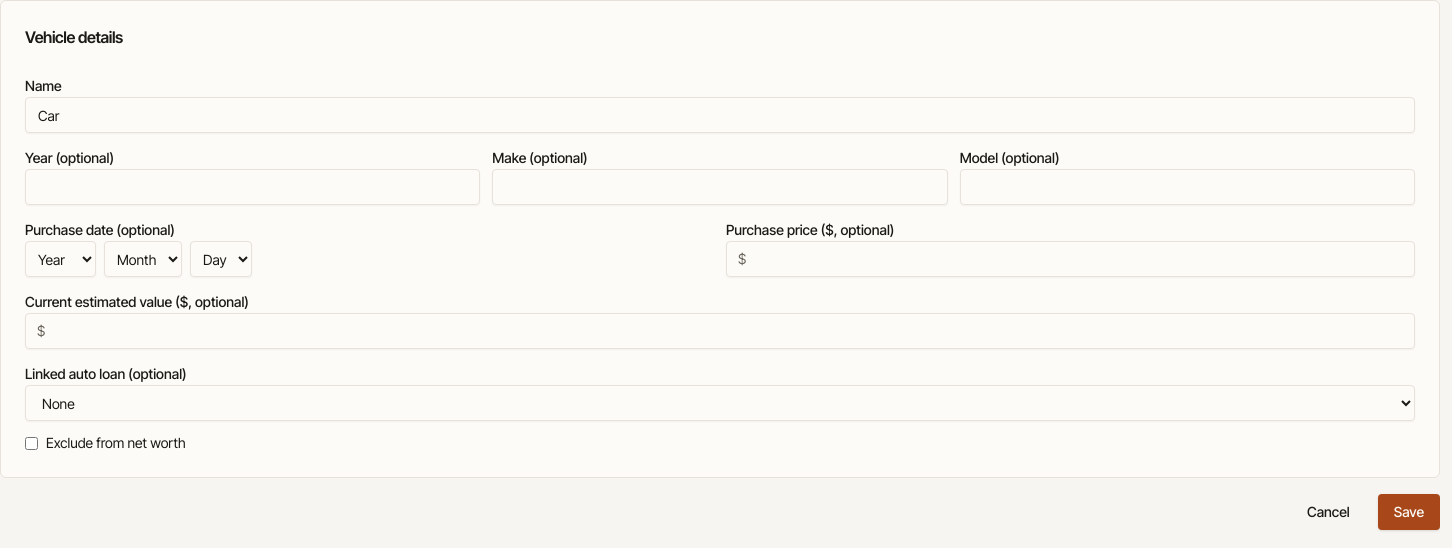
Test: VehicleForm — MoneyInput adoption (round-3 E6) › money fields format with the house MoneyInput
Type "42000" into the field labelled "Purchase price ($, optional)".
click(1070, 259); type("42000")  # box [726,241,1415,277]
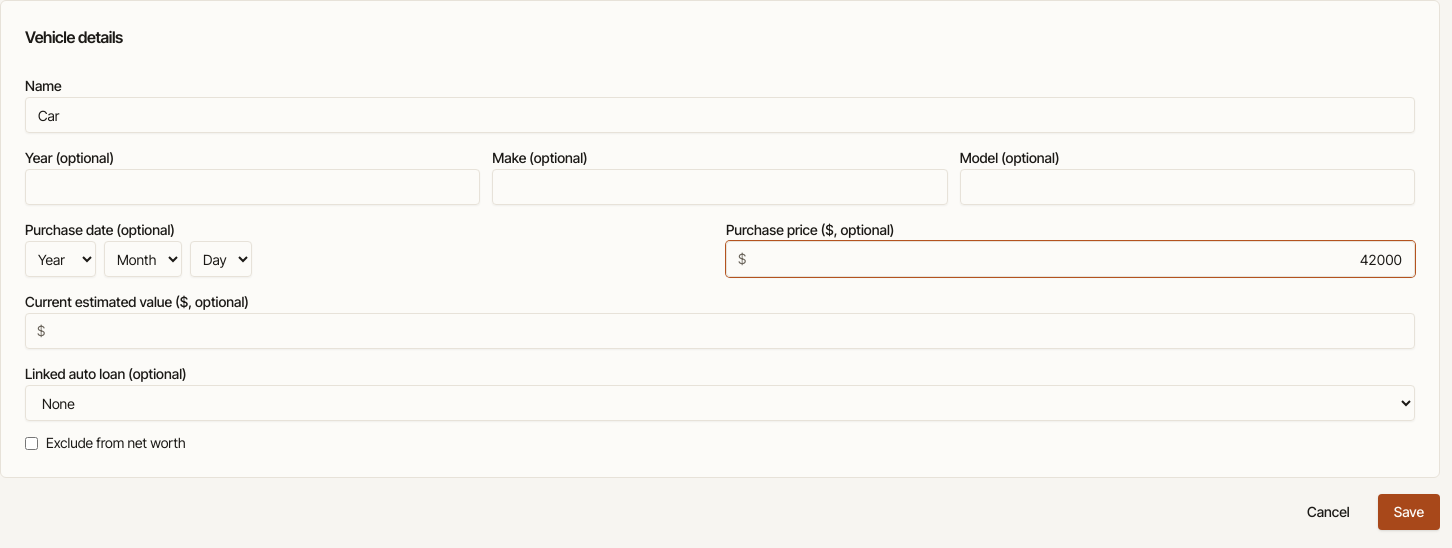
Press Tab
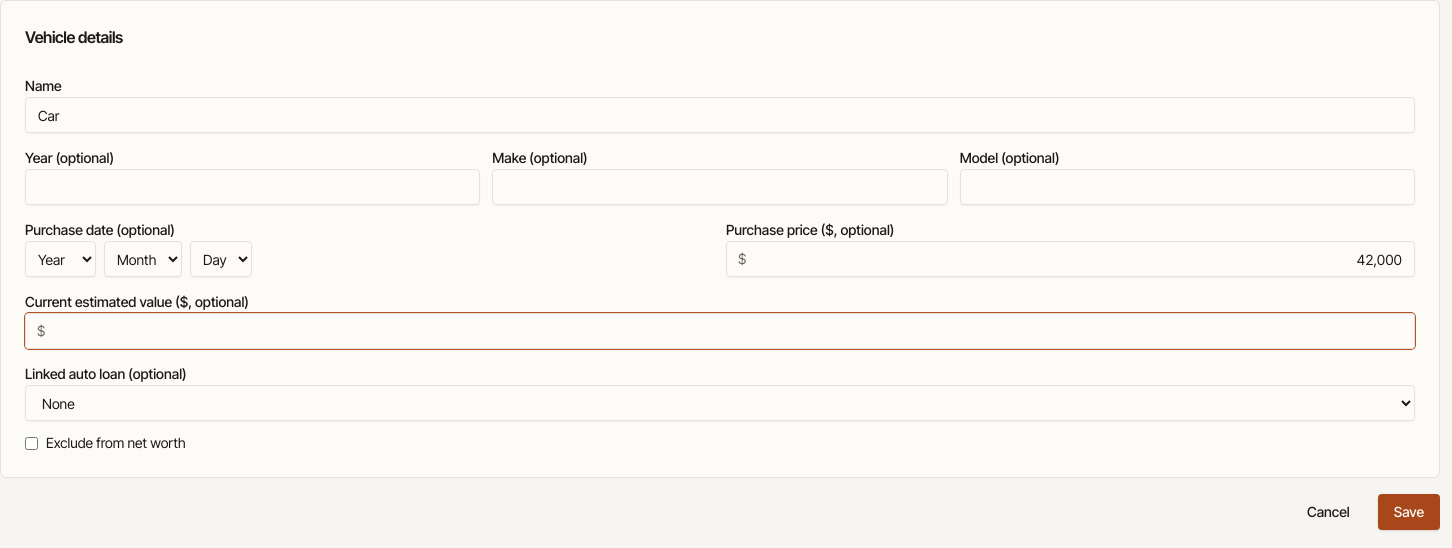
Now the field labelled "Purchase price ($, optional)" holds "42,000", box [726,241,1415,277]
